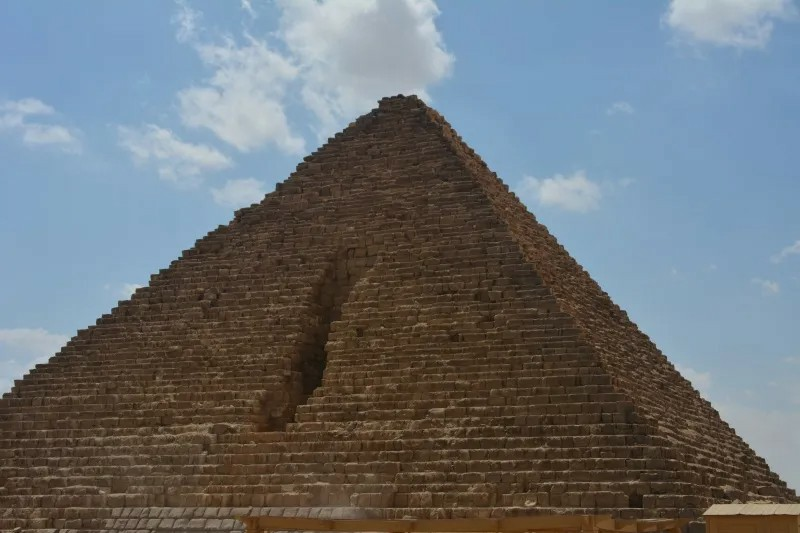Pyramid: (1, 95, 800, 518)
